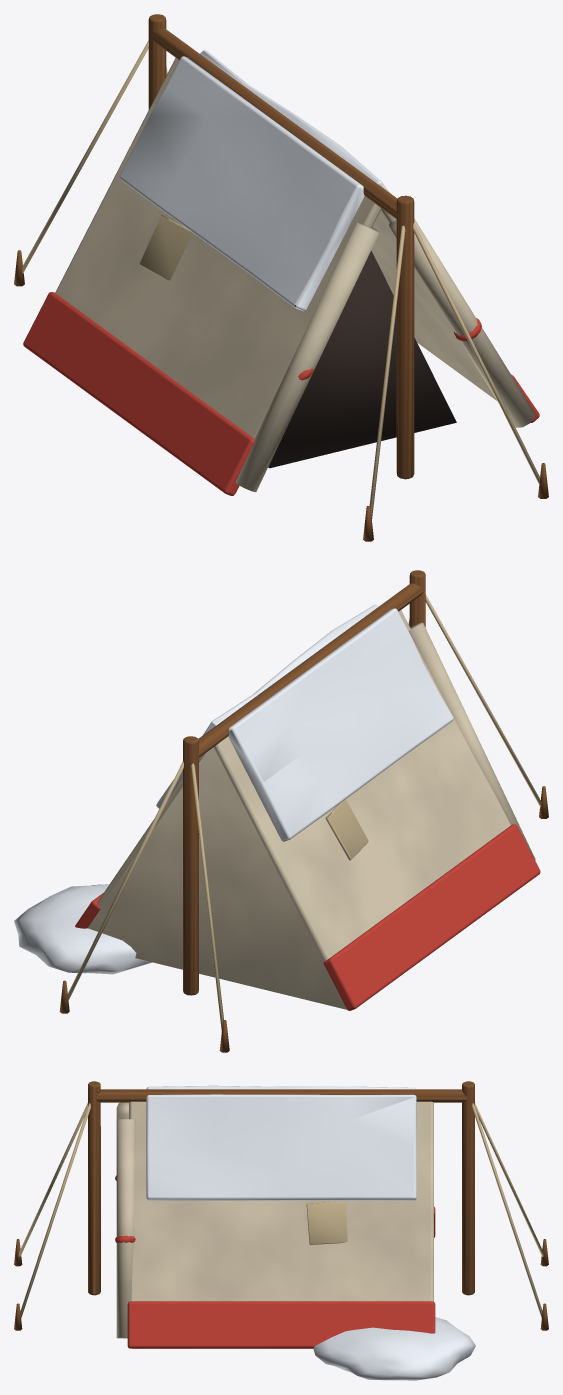
File: tent_a.glb
The picture shows the model from 3 angles, top to bottom: view 1: azimuth 30°, elevation 25°; view 2: azimuth 150°, elevation 25°; view 3: azimuth 270°, elevation 25°; orthographic projection. The views are drawn at different scales.
Parts seen in each view (by area): view 1: back; view 2: back; view 3: back.
Boxes of the visible parts, left/top/right/bottom form: back: left=14, top=14, right=548, bottom=541; back: left=14, top=570, right=548, bottom=1052; back: left=14, top=1081, right=548, bottom=1380.
Bounding box in the file's own units: 2.41 × 1.83 × 3.86.
1 material, 1 textured.
